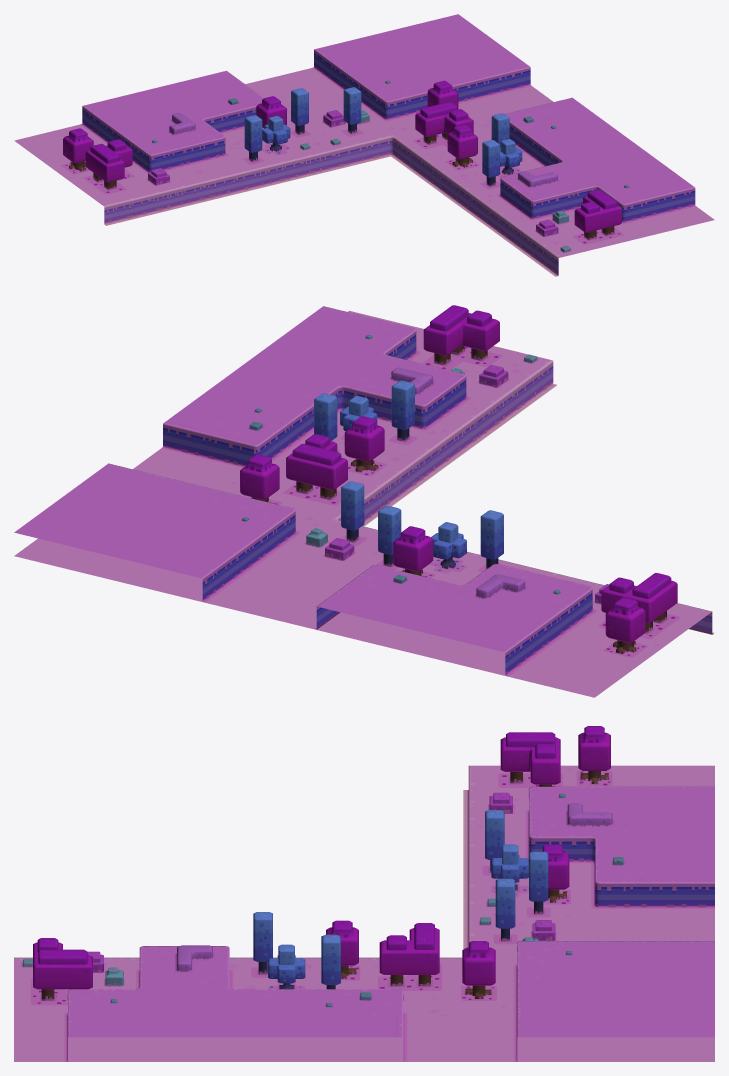
The model's file is C_forest2_out_LD.fbx.
3 renders of one model, top to bottom at view 1: azimuth 30°, elevation 25°; view 2: azimuth 150°, elevation 25°; view 3: azimuth 270°, elevation 25°, orthographic. The views are drawn at different scales.
Parts seen in each view (by area): view 1: C_forest2_out_LD.001; view 2: C_forest2_out_LD.001; view 3: C_forest2_out_LD.001.
Part boxes in pixels (<box>): C_forest2_out_LD.001: <box>14,14,714,276</box>; C_forest2_out_LD.001: <box>14,305,714,697</box>; C_forest2_out_LD.001: <box>14,726,714,1061</box>.
Bounding box in the file's own units: 117 × 15.31 × 117.
